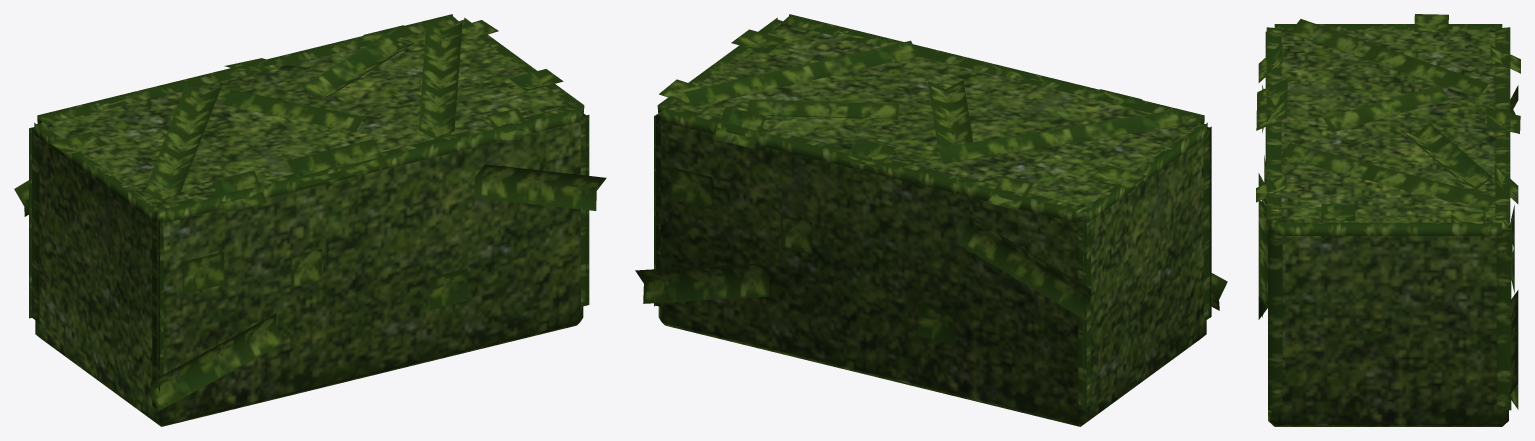
The picture shows the model from 3 angles, left to right: view 1: azimuth 30°, elevation 25°; view 2: azimuth 150°, elevation 25°; view 3: azimuth 270°, elevation 25°; orthographic projection. The views are drawn at different scales.
Visible parts, largest first — view 1: um_t1_pl012_model_t1_pl012_modelShape; view 2: um_t1_pl012_model_t1_pl012_modelShape; view 3: um_t1_pl012_model_t1_pl012_modelShape.
Boxes of the visible parts, x1,y1,x2,y2 form: um_t1_pl012_model_t1_pl012_modelShape: (14,14,606,426); um_t1_pl012_model_t1_pl012_modelShape: (635,14,1227,426); um_t1_pl012_model_t1_pl012_modelShape: (1256,14,1520,426).
Bounding box in the file's own units: 2.2 × 1.06 × 1.16.
1 material, 1 textured.
